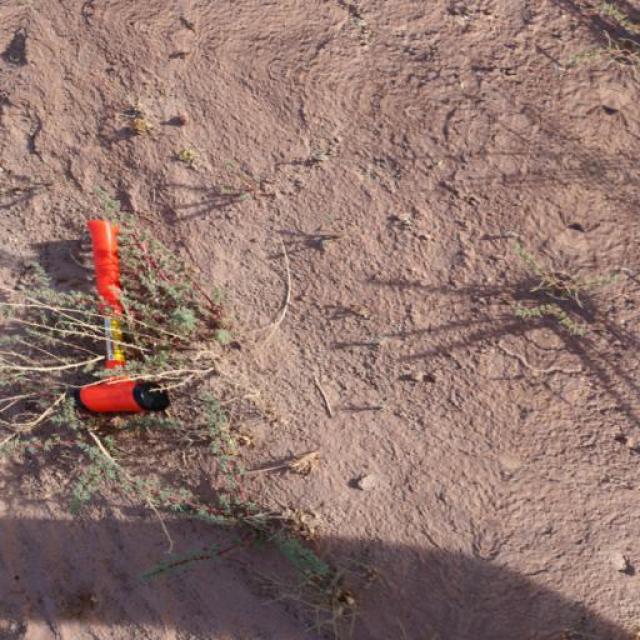mallet: (76, 216, 170, 415)
